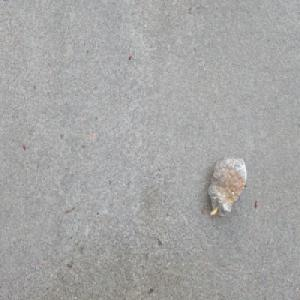Rock: (206, 155, 246, 220)
